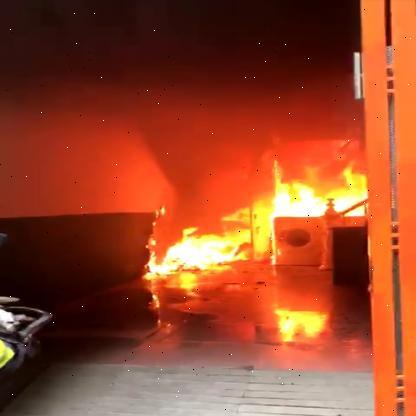fire: (150, 170, 363, 343)
smoke: (0, 0, 356, 156)
